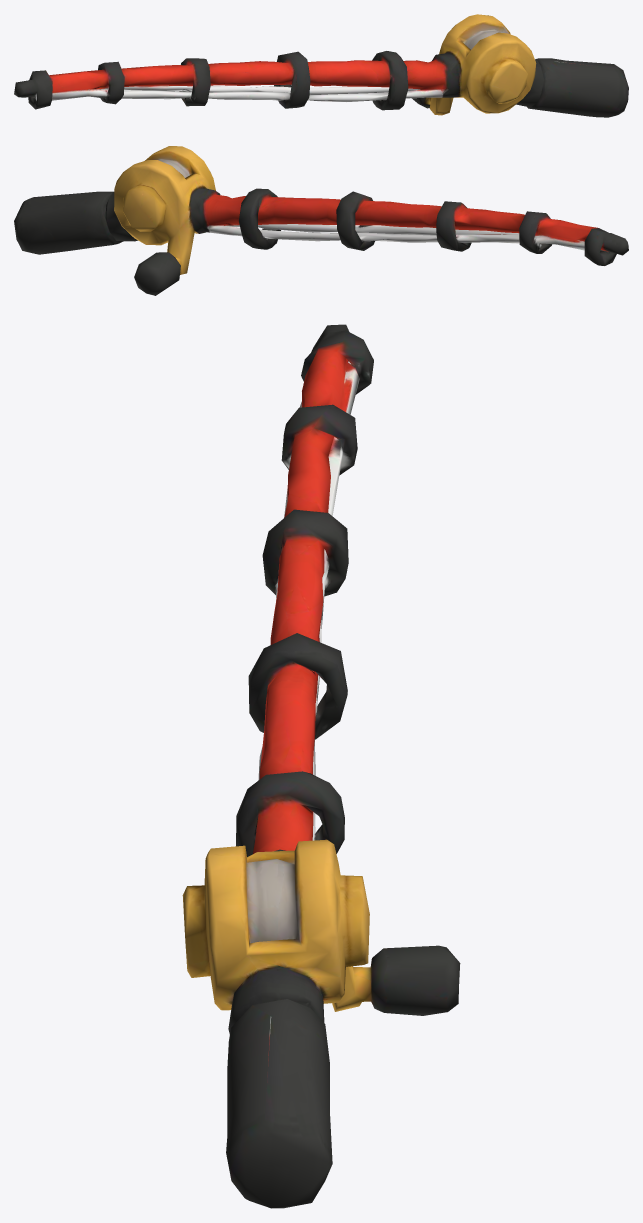
File: rod-3.glb
3 renders of one model, top to bottom at view 1: azimuth 30°, elevation 25°; view 2: azimuth 150°, elevation 25°; view 3: azimuth 270°, elevation 25°, orthographic. The views are drawn at different scales.
Visible parts, largest first — view 1: tripo_node_a31d81ab-5cf4-4e9a-a2b3-f36ab8a90401; view 2: tripo_node_a31d81ab-5cf4-4e9a-a2b3-f36ab8a90401; view 3: tripo_node_a31d81ab-5cf4-4e9a-a2b3-f36ab8a90401.
Part boxes in pixels (<box>): tripo_node_a31d81ab-5cf4-4e9a-a2b3-f36ab8a90401: <box>14,14,628,117</box>; tripo_node_a31d81ab-5cf4-4e9a-a2b3-f36ab8a90401: <box>14,146,628,295</box>; tripo_node_a31d81ab-5cf4-4e9a-a2b3-f36ab8a90401: <box>182,324,460,1208</box>.
Size of the model in its own units: 1 by 0.2675 by 0.2023.
1 material, 1 textured.
